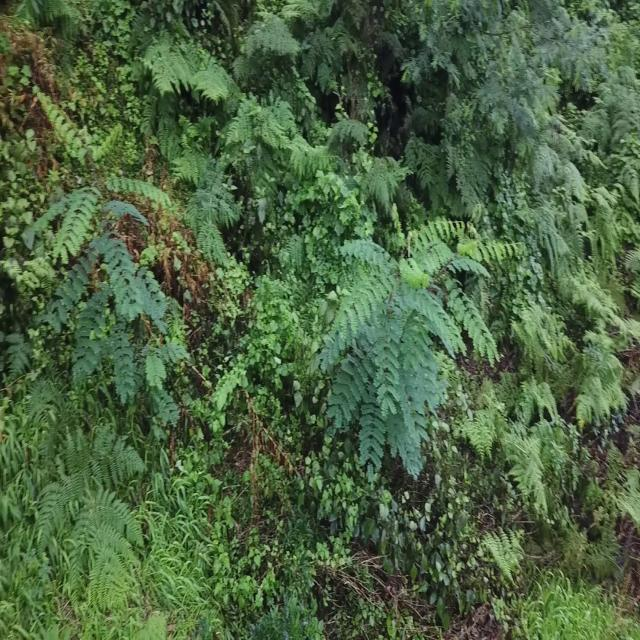Mysore-Thorn-Weed: (21, 62, 202, 452), (322, 195, 530, 502)
